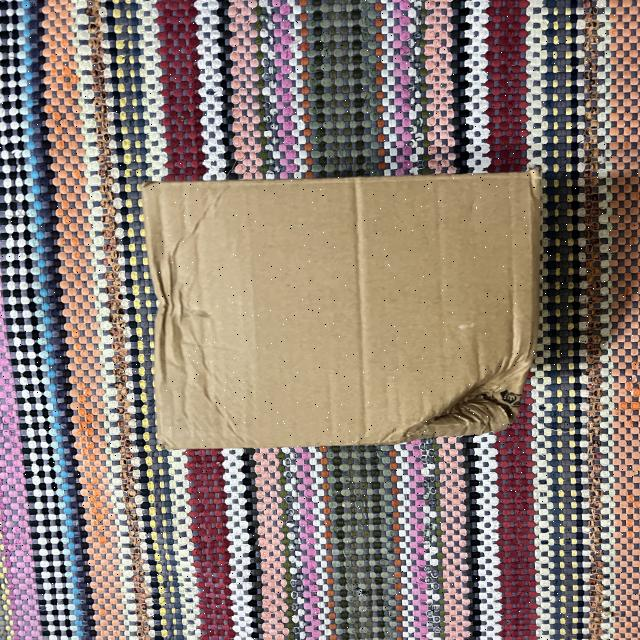damaged: (126, 170, 550, 449), (395, 353, 539, 438), (142, 252, 204, 368)
